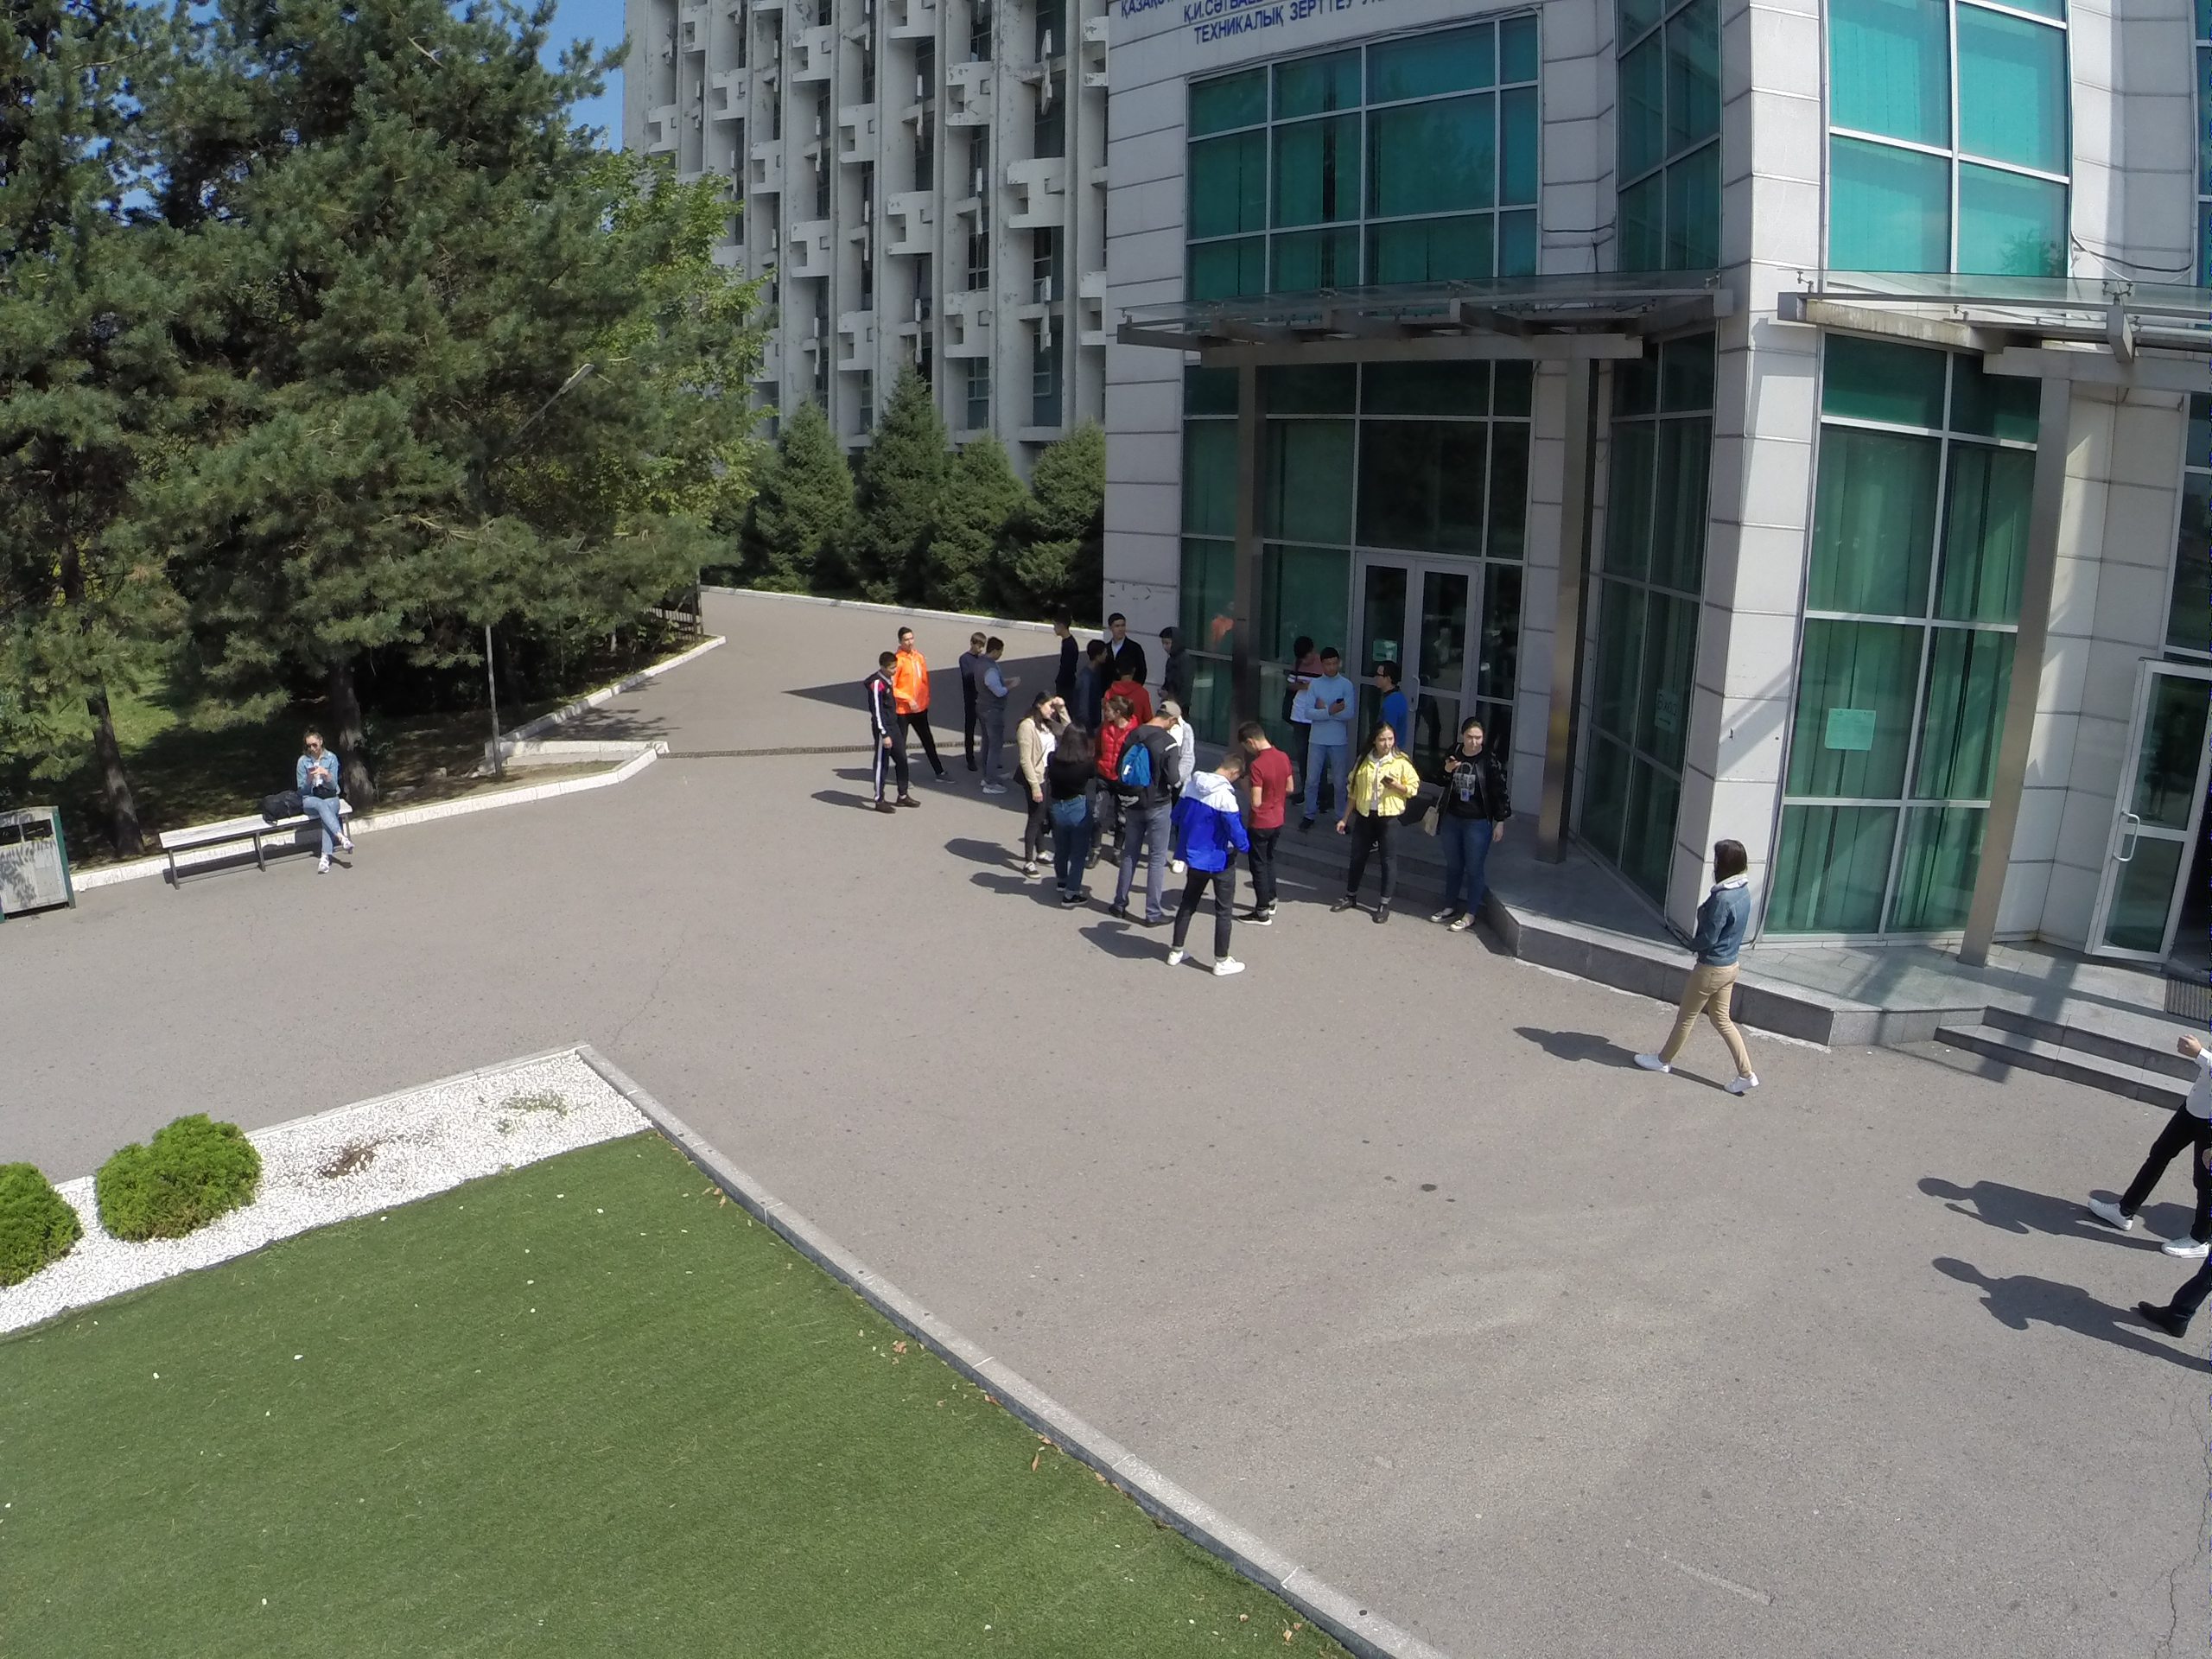person: (1637, 833, 1764, 1100), (1427, 716, 1511, 940), (1108, 691, 1183, 929), (1166, 752, 1246, 976), (1344, 718, 1414, 926), (1227, 714, 1289, 930), (880, 615, 952, 790), (1010, 686, 1071, 876), (286, 723, 357, 883), (856, 646, 919, 815), (1297, 646, 1346, 829), (1047, 722, 1093, 911), (1089, 693, 1131, 864), (970, 637, 1012, 803), (1281, 632, 1324, 788), (1154, 622, 1192, 703), (1046, 607, 1077, 706), (1370, 656, 1408, 735), (1077, 633, 1112, 696), (1107, 613, 1140, 675)
